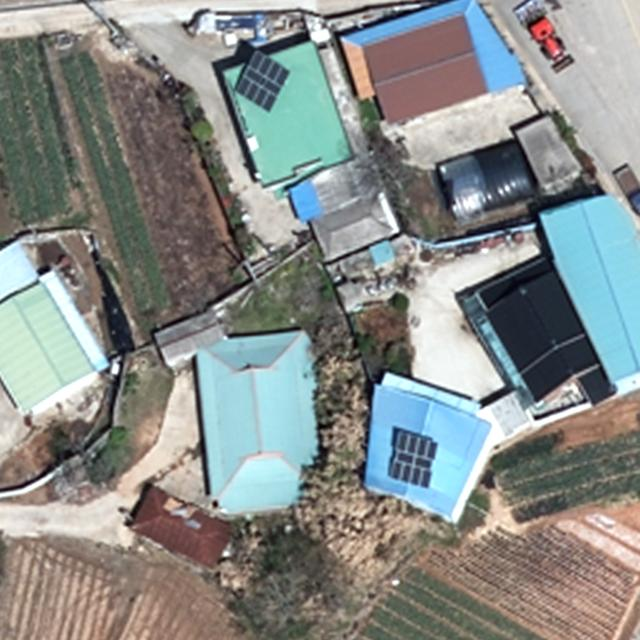panel: (232, 48, 292, 117), (384, 426, 439, 490)
